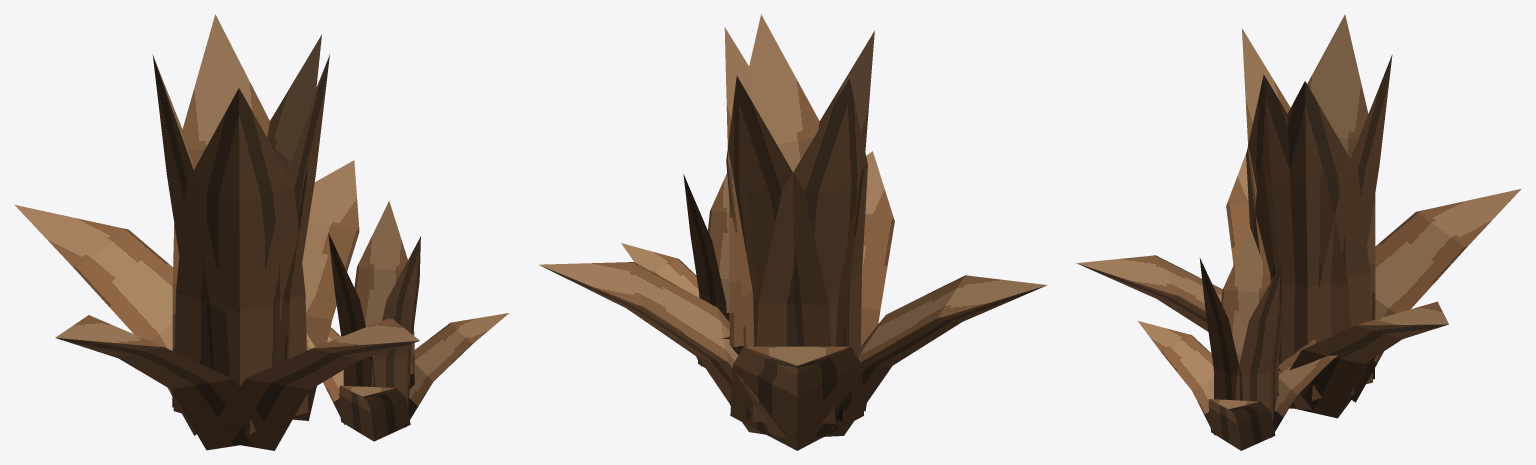
Rendered from FLO-11_Maguey_de_repisa.gltf.
The picture shows the model from 3 angles, left to right: view 1: azimuth 30°, elevation 25°; view 2: azimuth 150°, elevation 25°; view 3: azimuth 270°, elevation 25°; orthographic projection. The views are drawn at different scales.
Parts seen in each view (by area): view 1: FLO-11_Maguey_de_repisa; view 2: FLO-11_Maguey_de_repisa; view 3: FLO-11_Maguey_de_repisa.
Part boxes in pixels (<box>): FLO-11_Maguey_de_repisa: <box>14,14,508,450</box>; FLO-11_Maguey_de_repisa: <box>539,14,1047,450</box>; FLO-11_Maguey_de_repisa: <box>1076,14,1520,450</box>.
Bounding box in the file's own units: 0.5989 × 0.4987 × 0.5647.
1 material, 1 textured.
